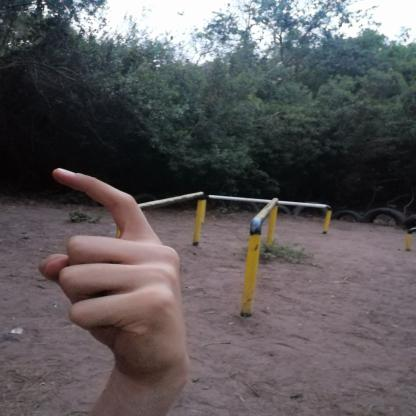RAA: (28, 159, 201, 380)
